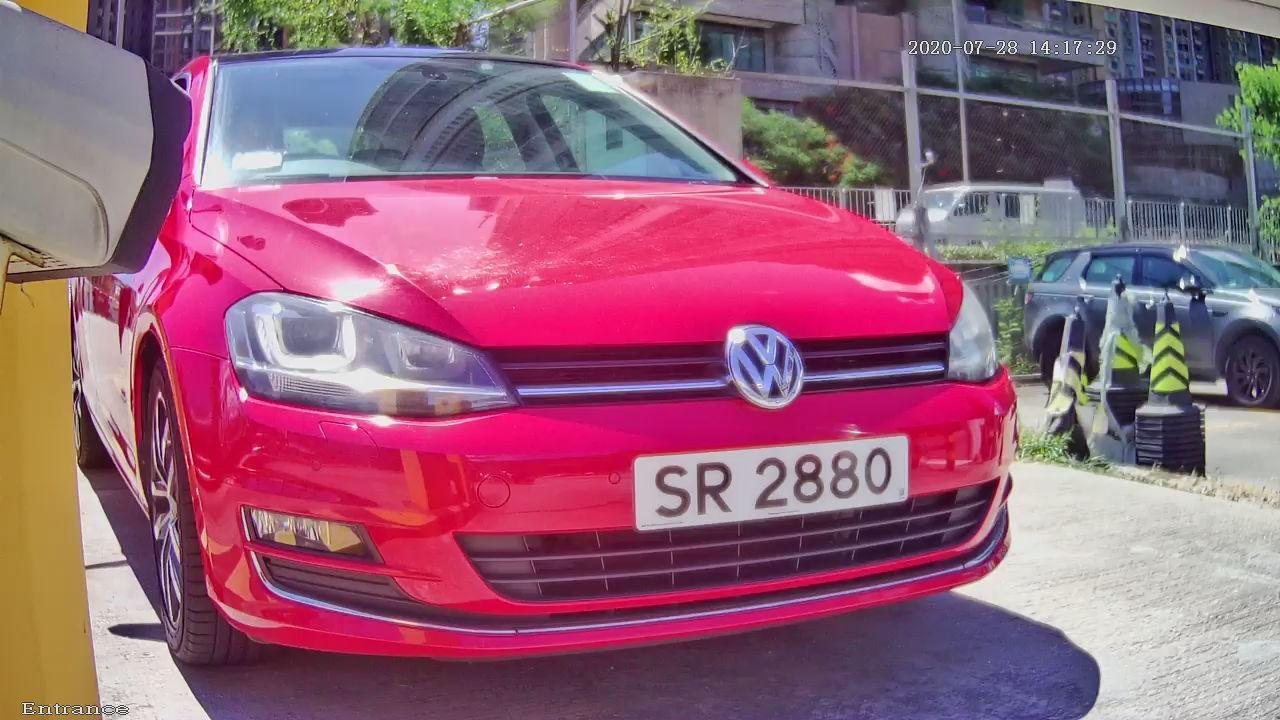privatecar: (69, 17, 1138, 704)
